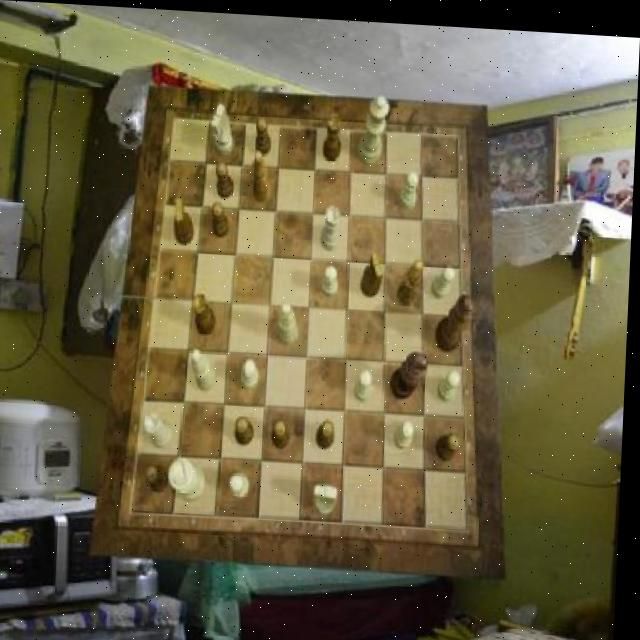bishop: (399, 253, 426, 300), (253, 147, 275, 201)
black-bishop: (393, 347, 432, 395)
black-king: (363, 247, 387, 293), (175, 197, 197, 244)
black-knight: (217, 158, 237, 197), (149, 461, 174, 490), (440, 427, 465, 456), (212, 199, 232, 235), (257, 114, 274, 153), (237, 415, 257, 443), (320, 416, 339, 445), (276, 417, 294, 446)
black-pawn: (438, 289, 480, 349)
black-queen: (195, 289, 220, 333), (324, 109, 343, 157)
black-rook: (195, 345, 222, 389), (281, 298, 303, 341)
white-bishop: (172, 455, 213, 499)
white-king: (212, 101, 237, 153), (318, 479, 342, 511)
white-knight: (433, 260, 458, 294), (441, 364, 464, 397), (401, 165, 420, 204), (357, 365, 376, 398), (398, 416, 419, 445), (244, 355, 263, 387), (324, 262, 342, 295), (234, 468, 255, 495)
white-pawn: (360, 91, 392, 161)
white-queen: (146, 409, 177, 446), (323, 200, 344, 247)
